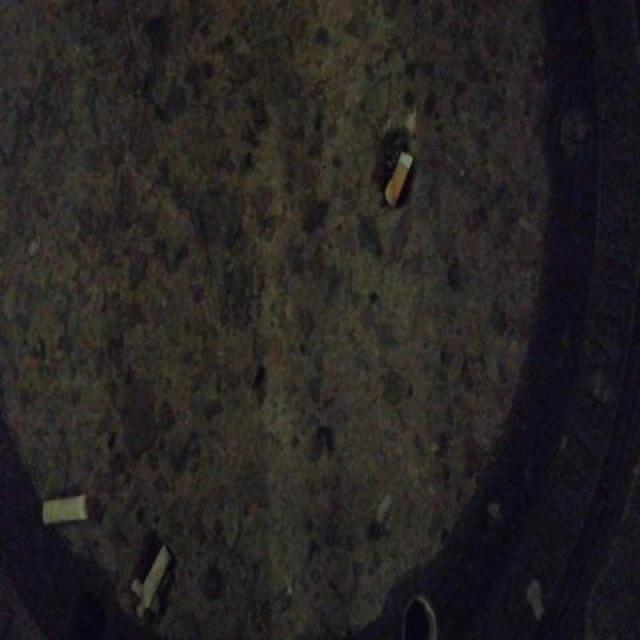non-organic waste: (137, 540, 175, 612), (36, 490, 92, 533), (381, 147, 416, 214)
